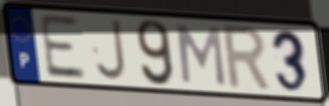3: (270, 27, 315, 96)
9: (134, 18, 175, 89)
E: (37, 12, 89, 81)
J: (93, 17, 129, 83)
M: (174, 22, 228, 89)
R: (221, 23, 275, 95)
